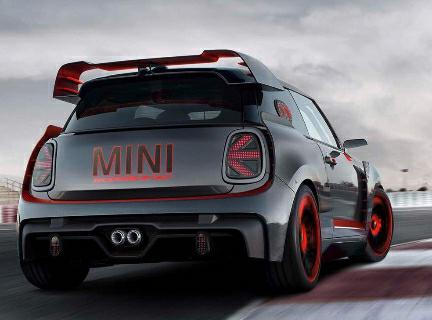MINI-JCW: (15, 46, 402, 296)
